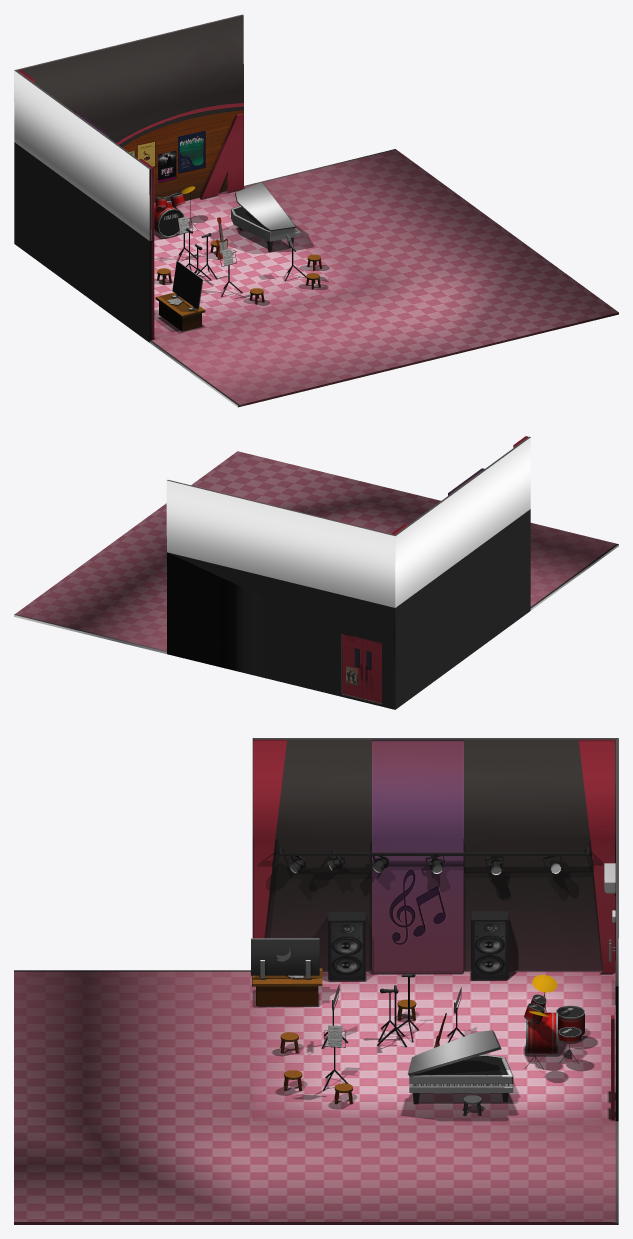
File: Tx_Interior_Education_music_20170726.fbx
The picture shows the model from 3 angles, top to bottom: view 1: azimuth 30°, elevation 25°; view 2: azimuth 150°, elevation 25°; view 3: azimuth 270°, elevation 25°; orthographic projection. The views are drawn at different scales.
Parts seen in each view (by area): view 1: polySurface127, polySurface131, polySurface126; view 2: polySurface131, polySurface126, polySurface127; view 3: polySurface131, polySurface127, polySurface126, polySurface129, polySurface128, polySurface130.
Boxes of the visible parts, left/top/right/bottom form: polySurface127: left=149, top=149, right=618, bottom=407; polySurface131: left=14, top=87, right=377, bottom=342; polySurface126: left=14, top=14, right=243, bottom=240; polySurface131: left=167, top=509, right=530, bottom=709; polySurface126: left=166, top=436, right=530, bottom=607; polySurface127: left=14, top=451, right=618, bottom=653; polySurface131: left=251, top=836, right=618, bottom=1121; polySurface127: left=14, top=970, right=618, bottom=1224; polySurface126: left=252, top=738, right=618, bottom=986; polySurface129: left=372, top=739, right=463, bottom=838; polySurface128: left=578, top=739, right=614, bottom=838; polySurface130: left=253, top=739, right=286, bottom=838.
Size of the model in its own units: 87.39 by 38.1 by 88.73.
